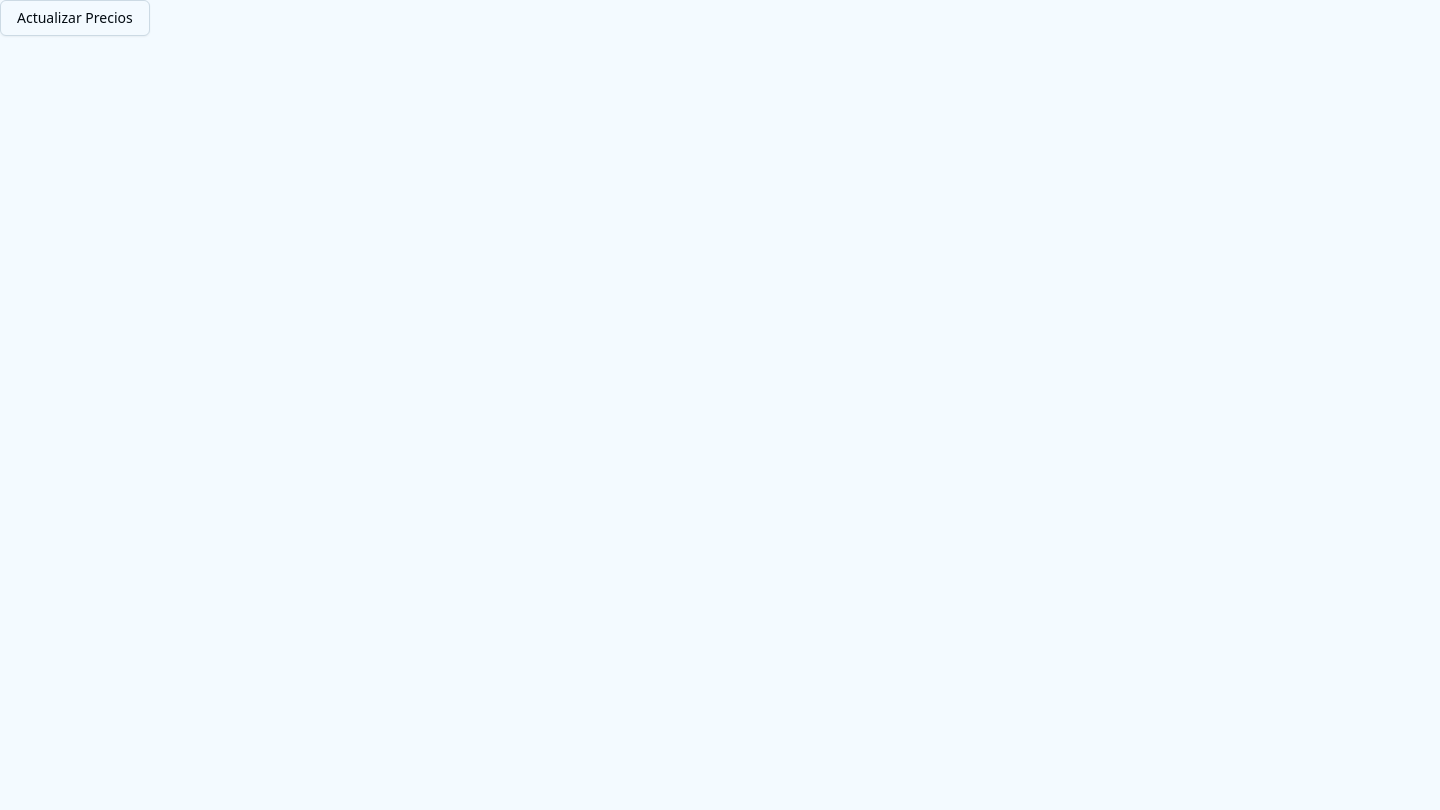
UpdatePricesDialog › disables submit when no file is selected
The image size is (1440, 810).
Click the button "Actualizar Precios": [75, 18] box [0, 0, 150, 36]
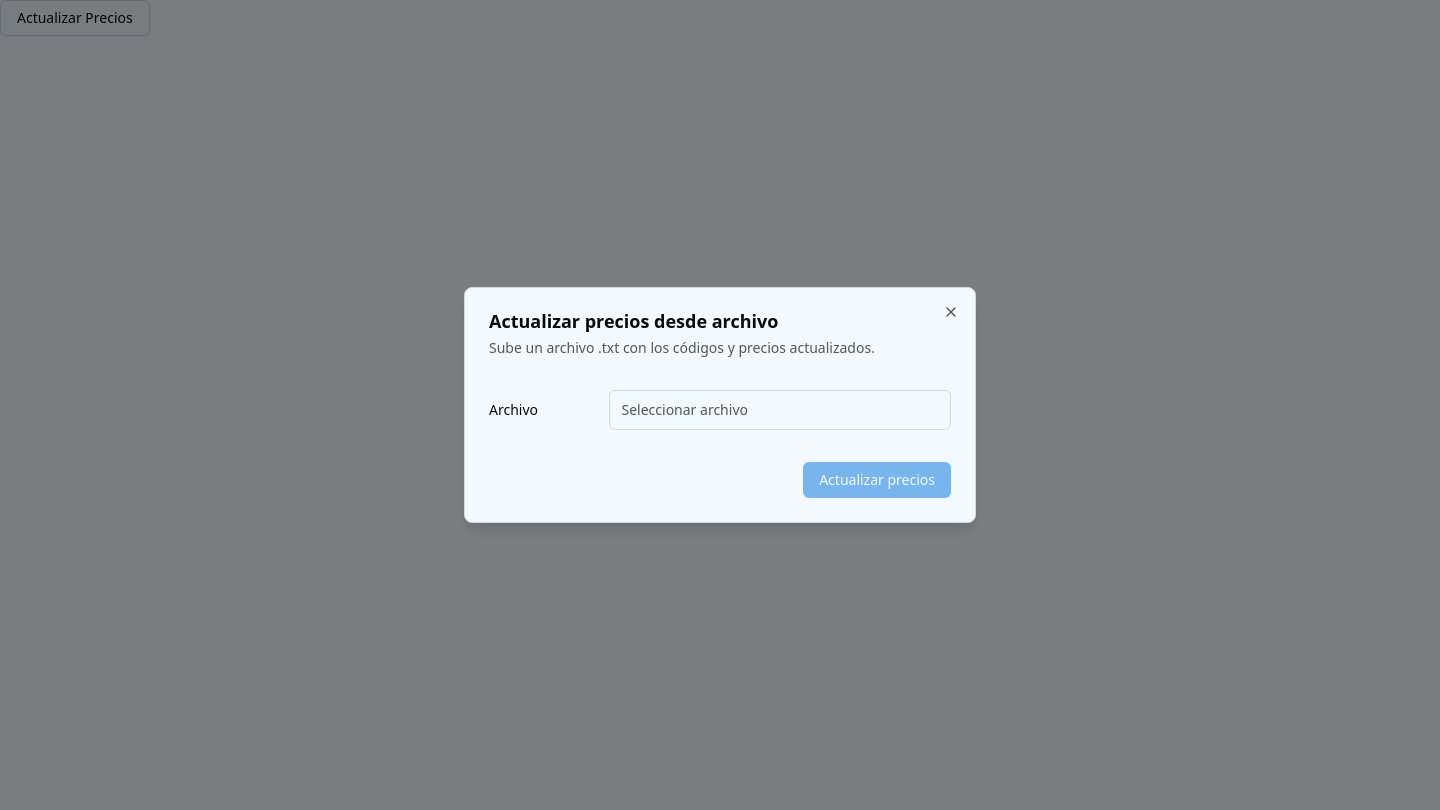
Result: the heading "Actualizar precios desde archivo" is shown at [489, 309, 778, 333]
Result: the button "Actualizar precios" is disabled at [803, 462, 951, 498]
